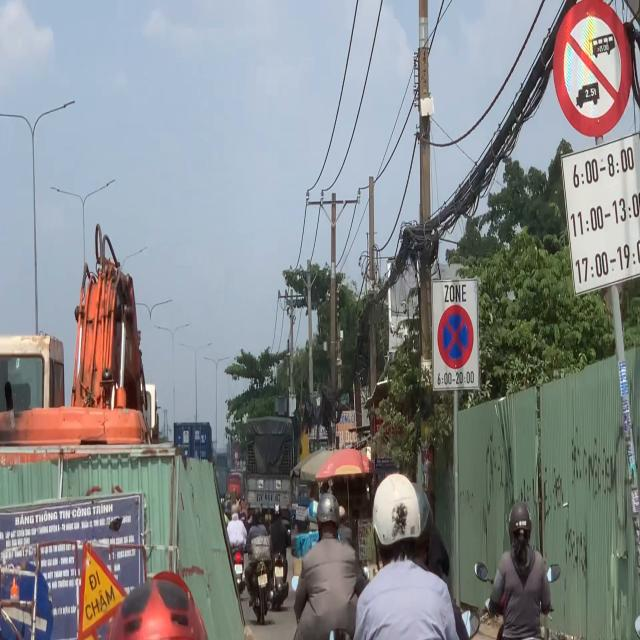Cam dung va do: (436, 303, 475, 370)
Nguy hiem: (72, 556, 118, 622)
